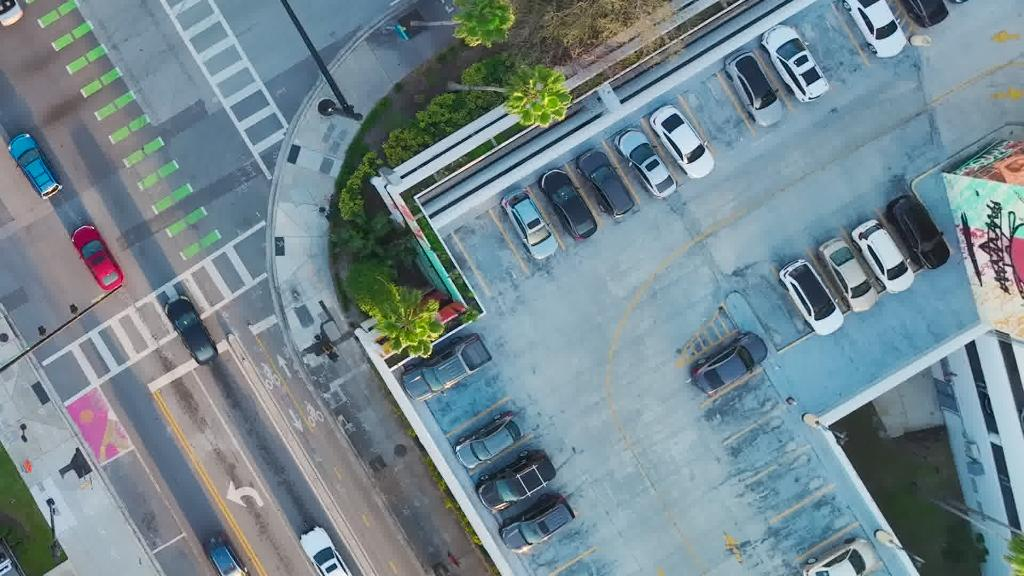cars: (400, 332, 494, 402), (760, 24, 828, 102), (475, 448, 557, 512), (648, 104, 716, 178), (778, 258, 844, 334), (691, 331, 767, 395), (884, 195, 950, 268), (850, 219, 914, 293), (499, 491, 575, 553), (724, 48, 784, 125), (818, 236, 878, 311), (614, 128, 678, 198), (538, 167, 598, 239), (500, 188, 558, 260), (576, 150, 636, 218), (454, 410, 524, 468), (6, 131, 64, 200), (164, 295, 218, 367), (840, 0, 906, 58), (70, 223, 124, 291), (802, 536, 880, 576), (299, 524, 353, 576), (201, 530, 251, 576), (881, 0, 948, 26), (0, 0, 23, 26), (917, 0, 978, 3)
